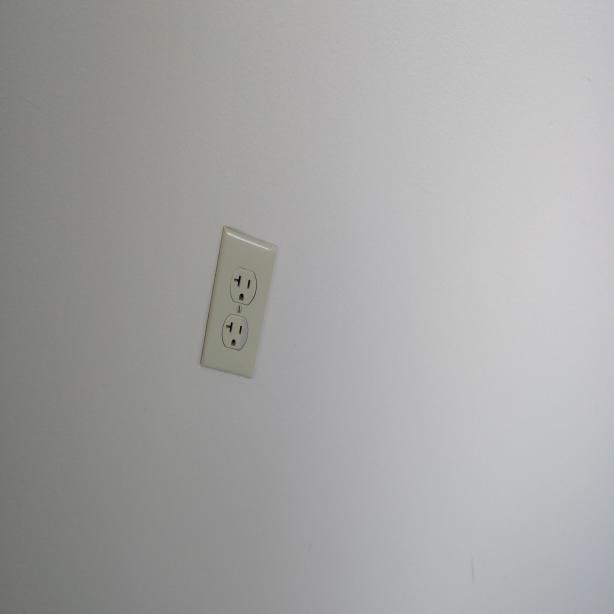typeb: (231, 270, 255, 307), (225, 314, 248, 348)
